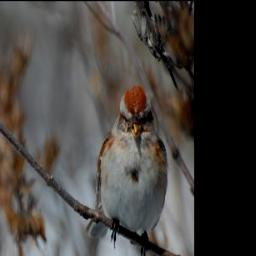Sparrow: (83, 82, 169, 256)
